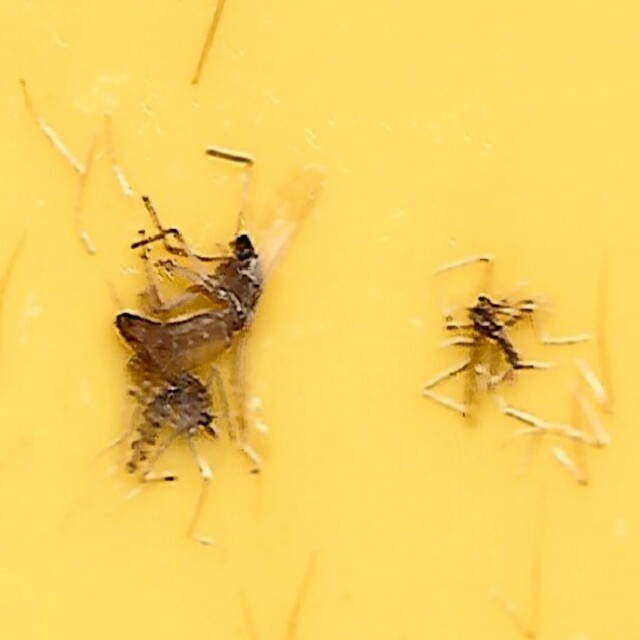Nematocera: (95, 142, 293, 363), (115, 371, 234, 498), (454, 289, 545, 415)
